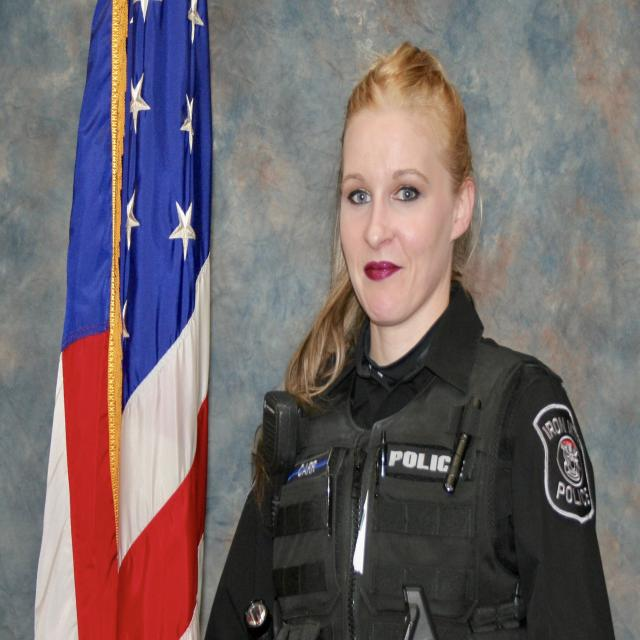police: (222, 4, 625, 640)
